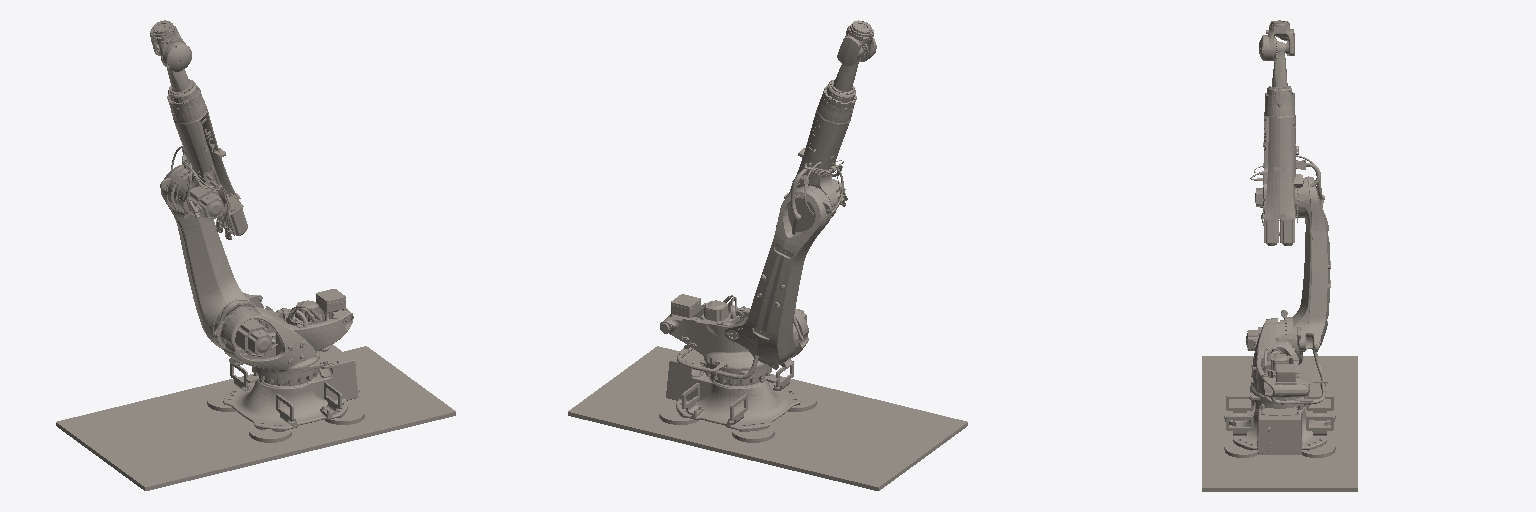
URDF robot description (urdf_assembly_v35):
<?xml version="1.0" encoding="utf-8"?>
<!-- This URDF was automatically created by SolidWorks to URDF Exporter! Originally created by [author] ([email redacted]) 
     Commit Version: 1.6.0-4-g7f85cfe  Build Version: 1.6.7995.38578
     For more information, please see http://wiki.ros.org/sw_urdf_exporter -->
<robot
  name="urdf_assembly_v35">
  <link name="dummy">
  </link>
  <link
    name="base_link">
    <inertial>
      <origin
        xyz="-0.0844169197418969 -0.00013163908821745 0.0117932188064216"
        rpy="0 0 0" />
      <mass
        value="1260.07046060535" />
      <inertia
        ixx="101.230623799561"
        ixy="0.0613076484942934"
        ixz="-2.6789858346186"
        iyy="382.443074364293"
        iyz="0.0153377958890788"
        izz="477.472155985642" />
    </inertial>
    <visual>
      <origin
        xyz="0 0 0"
        rpy="0 0 0" />
      <geometry>
        <mesh
          filename="package://urdf_assembly_v35/meshes/base_link.STL" />
      </geometry>
      <material
        name="">
        <color
          rgba="0.647058823529412 0.619607843137255 0.588235294117647 1" />
      </material>
    </visual>
    <collision>
      <origin
        xyz="0 0 0"
        rpy="0 0 0" />
      <geometry>
        <mesh
          filename="package://urdf_assembly_v35/meshes/base_link.STL" />
      </geometry>
    </collision>
  </link>
  <joint name="dummy_joint" type="fixed">
    <parent link="dummy"/>
    <child link="base_link"/>
  </joint>
  <link
    name="link_1">
    <inertial>
      <origin
        xyz="-0.0112654107816321 0.0143774502832582 0.244685031266509"
        rpy="0 0 0" />
      <mass
        value="593.185401308515" />
      <inertia
        ixx="16.7141707050517"
        ixy="-2.5266504724928"
        ixz="1.55854667923518"
        iyy="30.8872937567647"
        iyz="-0.460064311527215"
        izz="27.9320497019706" />
    </inertial>
    <visual>
      <origin
        xyz="0 0 0"
        rpy="0 0 0" />
      <geometry>
        <mesh
          filename="package://urdf_assembly_v35/meshes/link_1.STL" />
      </geometry>
      <material
        name="">
        <color
          rgba="0.647058823529412 0.619607843137255 0.588235294117647 1" />
      </material>
    </visual>
    <collision>
      <origin
        xyz="0 0 0"
        rpy="0 0 0" />
      <geometry>
        <mesh
          filename="package://urdf_assembly_v35/meshes/link_1.STL" />
      </geometry>
    </collision>
  </link>
  <joint
    name="joint_a1"
    type="revolute">
    <origin
      xyz="0 0 0.2256"
      rpy="0 0 3.14159265358979" />
    <parent
      link="base_link" />
    <child
      link="link_1" />
    <axis
      xyz="0 0 -1" />
    <limit
      lower="-3.2289"
      upper="3.2289"
      effort="0"
      velocity="2.0944" />
  </joint>
  <link
    name="link_2">
    <inertial>
      <origin
        xyz="1.15006304389294 -0.216421688675466 2.33475179864939E-05"
        rpy="0 0 0" />
      <mass
        value="0.000891295907147729" />
      <inertia
        ixx="2.47857736233912E-09"
        ixy="-1.06919244713188E-12"
        ixz="2.18716806865104E-24"
        iyy="4.31689480547758E-09"
        iyz="-1.18790953058352E-20"
        izz="2.47857674048042E-09" />
    </inertial>
    <visual>
      <origin
        xyz="0 0 0"
        rpy="0 0 0" />
      <geometry>
        <mesh
          filename="package://urdf_assembly_v35/meshes/link_2.STL" />
      </geometry>
      <material
        name="">
        <color
          rgba="0.647058823529412 0.619607843137255 0.588235294117647 1" />
      </material>
    </visual>
    <collision>
      <origin
        xyz="0 0 0"
        rpy="0 0 0" />
      <geometry>
        <mesh
          filename="package://urdf_assembly_v35/meshes/link_2.STL" />
      </geometry>
    </collision>
  </link>
  <joint
    name="joint_a2"
    type="revolute">
    <origin
      xyz="0.33005 0.019192 0.40938"
      rpy="0 0 0" />
    <parent
      link="link_1" />
    <child
      link="link_2" />
    <axis
      xyz="0 1 0" />
    <limit
      lower="-2.4435"
      upper="-0.087267"
      effort="0"
      velocity="2.0071" />
  </joint>
  <link
    name="link_3">
    <inertial>
      <origin
        xyz="-0.10560604602442 0.0317965908061342 0.0731486734199567"
        rpy="0 0 0" />
      <mass
        value="88.969337891404" />
      <inertia
        ixx="0.420248873248963"
        ixy="-3.03335896403876E-05"
        ixz="-0.00110825292590562"
        iyy="0.424604517434819"
        iyz="0.00322586490726116"
        izz="0.531230891945026" />
    </inertial>
    <visual>
      <origin
        xyz="0 0 0"
        rpy="0 0 0" />
      <geometry>
        <mesh
          filename="package://urdf_assembly_v35/meshes/link_3.STL" />
      </geometry>
      <material
        name="">
        <color
          rgba="0.647058823529412 0.619607843137255 0.588235294117647 1" />
      </material>
    </visual>
    <collision>
      <origin
        xyz="0 0 0"
        rpy="0 0 0" />
      <geometry>
        <mesh
          filename="package://urdf_assembly_v35/meshes/link_3.STL" />
      </geometry>
    </collision>
  </link>
  <joint
    name="joint_a3"
    type="revolute">
    <origin
      xyz="1.1499 -0.019192 2.3348E-05"
      rpy="0 0 0" />
    <parent
      link="link_2" />
    <child
      link="link_3" />
    <axis
      xyz="0 1 0" />
    <limit
      lower="-2.0944"
      upper="2.9322"
      effort="0"
      velocity="2.0944" />
  </joint>
  <link
    name="link_4">
    <inertial>
      <origin
        xyz="0.184660969344098 0.00461568980136062 -2.52194184113819E-06"
        rpy="0 0 0" />
      <mass
        value="36.8883709589673" />
      <inertia
        ixx="0.0908979061073244"
        ixy="-0.0298852717103187"
        ixz="-1.65825629616523E-05"
        iyy="0.650854286038259"
        iyz="-6.19348955950714E-06"
        izz="0.648246981479175" />
    </inertial>
    <visual>
      <origin
        xyz="0 0 0"
        rpy="0 0 0" />
      <geometry>
        <mesh
          filename="package://urdf_assembly_v35/meshes/link_4.STL" />
      </geometry>
      <material
        name="">
        <color
          rgba="0.647058823529412 0.619607843137255 0.588235294117647 1" />
      </material>
    </visual>
    <collision>
      <origin
        xyz="0 0 0"
        rpy="0 0 0" />
      <geometry>
        <mesh
          filename="package://urdf_assembly_v35/meshes/link_4.STL" />
      </geometry>
    </collision>
  </link>
  <joint
    name="joint_a4"
    type="revolute">
    <origin
      xyz="0.8685 0.0013481 0.115"
      rpy="0 0 0" />
    <parent
      link="link_3" />
    <child
      link="link_4" />
    <axis
      xyz="-1 0 0" />
    <limit
      lower="-6.1087"
      upper="6.1087"
      effort="0"
      velocity="3.3161" />
  </joint>
  <link
    name="link_5">
    <inertial>
      <origin
        xyz="0.0517408182443094 -0.0250962227828446 -4.52362736387268E-05"
        rpy="0 0 0" />
      <mass
        value="49.8341609544022" />
      <inertia
        ixx="0.446033522142247"
        ixy="0.109429009136249"
        ixz="0.000139527626627394"
        iyy="0.394344621610918"
        iyz="0.000254212225088045"
        izz="0.626290334415968" />
    </inertial>
    <visual>
      <origin
        xyz="0 0 0"
        rpy="0 0 0" />
      <geometry>
        <mesh
          filename="package://urdf_assembly_v35/meshes/link_5.STL" />
      </geometry>
      <material
        name="">
        <color
          rgba="0.647058823529412 0.619607843137255 0.588235294117647 1" />
      </material>
    </visual>
    <collision>
      <origin
        xyz="0 0 0"
        rpy="0 0 0" />
      <geometry>
        <mesh
          filename="package://urdf_assembly_v35/meshes/link_5.STL" />
      </geometry>
    </collision>
  </link>
  <joint
    name="joint_a5"
    type="revolute">
    <origin
      xyz="0.35147 0.059222 0"
      rpy="0 0 0" />
    <parent
      link="link_4" />
    <child
      link="link_5" />
    <axis
      xyz="0 1 0" />
    <limit
      lower="-2.1817"
      upper="2.1817"
      effort="0"
      velocity="3.1416" />
  </joint>
  <link
    name="link_6">
    <inertial>
      <origin
        xyz="-0.0138433257150474 -1.27137374547059E-05 5.05015911422824E-05"
        rpy="0 0 0" />
      <mass
        value="4.22625724293971" />
      <inertia
        ixx="0.0100988986976244"
        ixy="2.96027949837054E-06"
        ixz="-1.85139149487491E-06"
        iyy="0.00562395740532188"
        iyz="-7.19604904621156E-07"
        izz="0.00560843232110779" />
    </inertial>
    <visual>
      <origin
        xyz="0 0 0"
        rpy="0 0 0" />
      <geometry>
        <mesh
          filename="package://urdf_assembly_v35/meshes/link_6.STL" />
      </geometry>
      <material
        name="">
        <color
          rgba="0.647058823529412 0.619607843137255 0.588235294117647 1" />
      </material>
    </visual>
    <collision>
      <origin
        xyz="0 0 0"
        rpy="0 0 0" />
      <geometry>
        <mesh
          filename="package://urdf_assembly_v35/meshes/link_6.STL" />
      </geometry>
    </collision>
  </link>
  <joint
    name="joint_a6"
    type="revolute">
    <origin
      xyz="0.20703 -0.05888 0"
      rpy="0 0 0" />
    <parent
      link="link_5" />
    <child
      link="link_6" />
    <axis
      xyz="-1 0 0" />
    <limit
      lower="-6.1087"
      upper="6.1087"
      effort="0"
      velocity="4.5379" />
  </joint>
  <link
    name="tool0">
    <inertial>
      <origin
        xyz="9.89623803686612E-05 0.0196274932687357 -0.196978981110526"
        rpy="0 0 0" />
      <mass
        value="54.2369602958223" />
      <inertia
        ixx="1.34119904840933"
        ixy="-0.00404788489533948"
        ixz="-0.000548701217940747"
        iyy="3.47297777488925"
        iyz="-0.00614271277154277"
        izz="4.70850665503007" />
    </inertial>
    <visual>
      <origin
        xyz="0 0 0"
        rpy="0 0 0" />
      <geometry>
        <mesh
          filename="package://urdf_assembly_v35/meshes/tool0.STL" />
      </geometry>
      <material
        name="">
        <color
          rgba="1 1 1 1" />
      </material>
    </visual>
    <collision>
      <origin
        xyz="0 0 0"
        rpy="0 0 0" />
      <geometry>
        <mesh
          filename="package://urdf_assembly_v35/meshes/tool0.STL" />
      </geometry>
    </collision>
  </link>
  <joint
    name="joint_tool"
    type="fixed">
    <origin
      xyz="0.137532969199297 -0.00411609161061555 -0.0800707415280313"
      rpy="0.785398451541612 -0.0523543791931615 -1.570220218292" />
    <parent
      link="link_6" />
    <child
      link="tool0" />
    <axis
      xyz="0 0 0" />
  </joint>
</robot>

--- Render facts (derived) ---
Views: 3 orthographic renders of the robot side by side, from view 1: azimuth 30°, elevation 25°; view 2: azimuth 150°, elevation 25°; view 3: azimuth 270°, elevation 25°.
Robot: urdf_assembly_v35 — 9 links, 8 joints (6 revolute, 2 fixed); root link dummy; default pose: all joints at 0 but 1 set to mid-range because 0 is outside their limits (joint_a2 = -1.27).
Visible links, largest first — view 1: base_link, link_1, link_2, link_3, link_5, link_4; view 2: base_link, link_2, link_1, link_3, link_5, link_4; view 3: base_link, link_3, link_2, link_1, link_5, link_4.
Boxes of the visible links, x1=… form: base_link: x1=56, y1=344, x2=455, y2=490; link_1: x1=223, y1=289, x2=353, y2=385; link_2: x1=160, y1=164, x2=263, y2=353; link_3: x1=167, y1=85, x2=247, y2=239; link_5: x1=150, y1=23, x2=191, y2=71; link_4: x1=167, y1=68, x2=196, y2=98; base_link: x1=568, y1=346, x2=967, y2=490; link_2: x1=725, y1=185, x2=831, y2=369; link_1: x1=660, y1=294, x2=808, y2=385; link_3: x1=776, y1=85, x2=856, y2=226; link_5: x1=837, y1=23, x2=876, y2=65; link_4: x1=828, y1=44, x2=868, y2=98; base_link: x1=1202, y1=356, x2=1357, y2=491; link_3: x1=1250, y1=91, x2=1324, y2=245; link_2: x1=1278, y1=176, x2=1330, y2=364; link_1: x1=1246, y1=318, x2=1327, y2=409; link_5: x1=1259, y1=23, x2=1294, y2=60; link_4: x1=1267, y1=37, x2=1291, y2=91.
Size in the robot's own frame: 2.5 by 1.25 by 3.23 metres.
Meshes: 8 distinct files referenced, 7 mesh visuals loaded (7 binary STL); not drawn: 1 (reference not matched to a file when rendering).